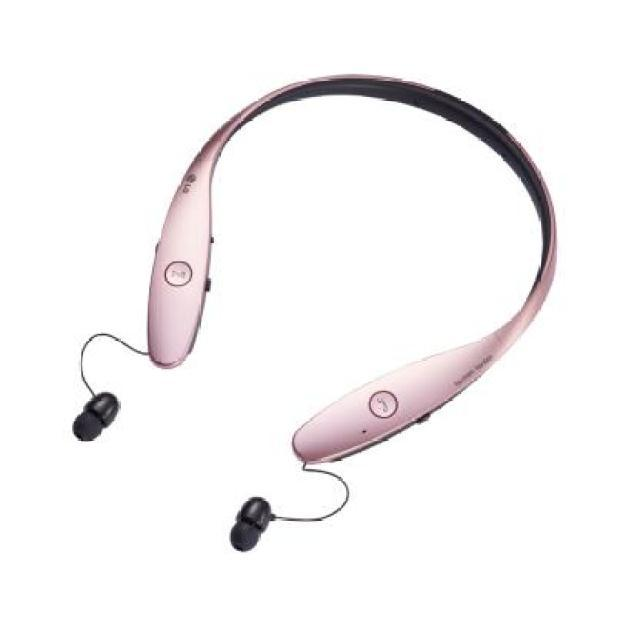earphone: (68, 25, 567, 580)
